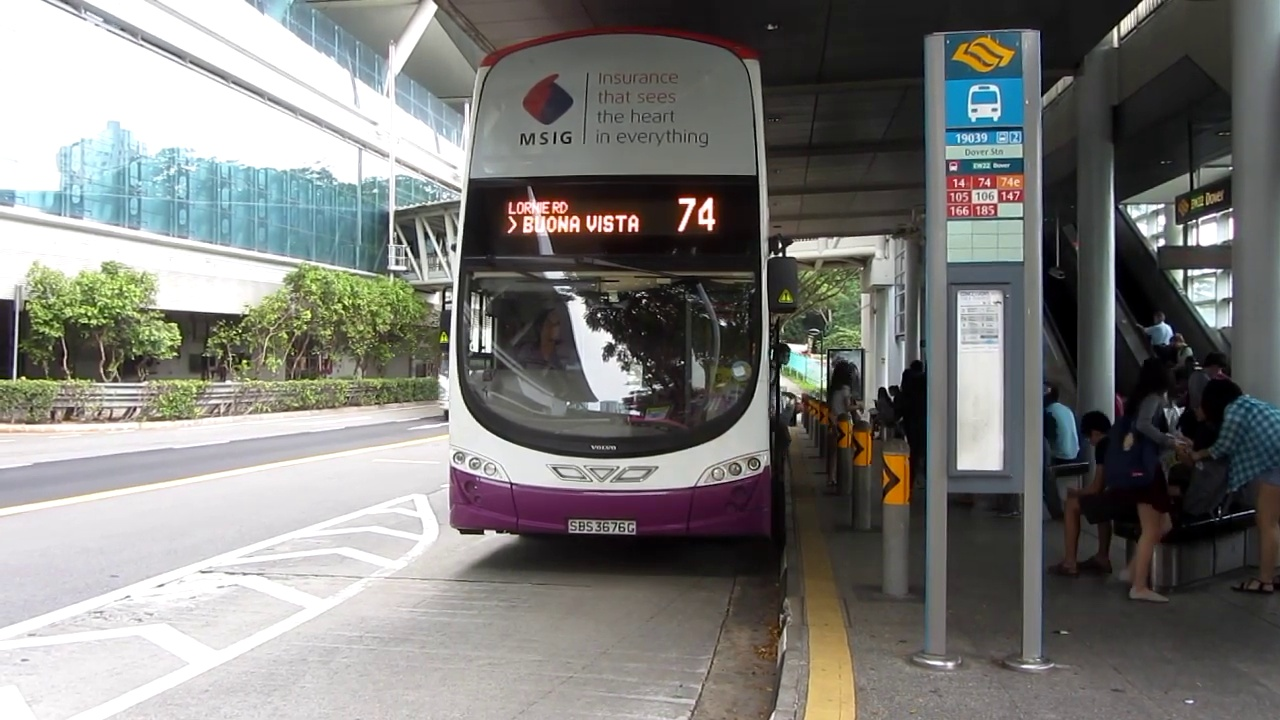bus panel: (502, 195, 723, 237)
